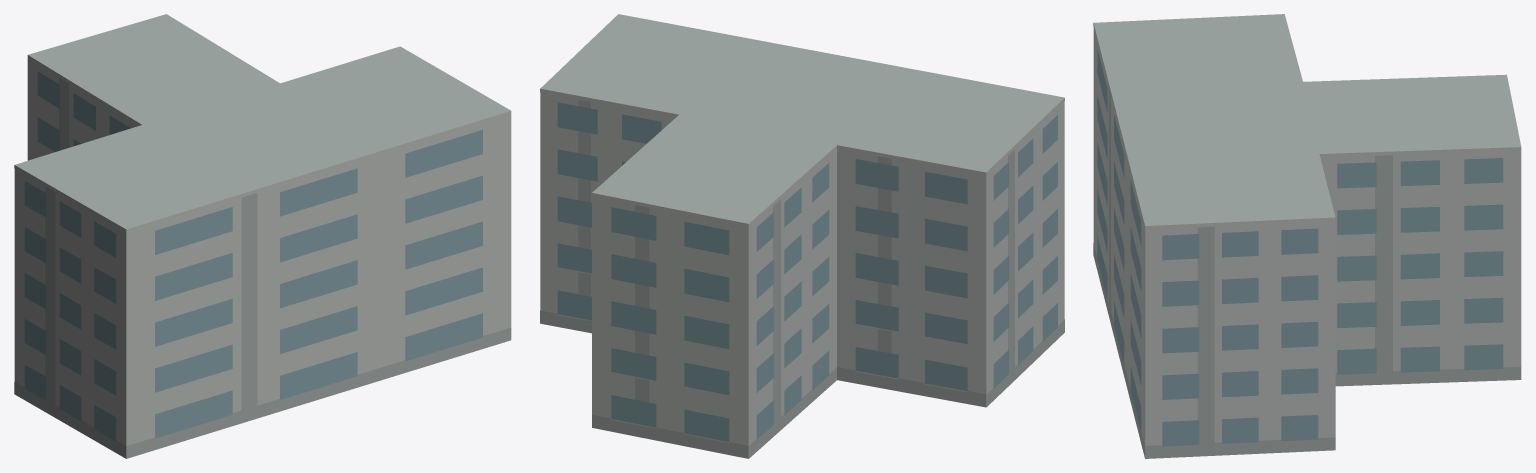
The model's file is residential-c31049ea-d808-4595-bd0d-76ddde4bd682.glb.
3 renders of one model, left to right at view 1: azimuth 30°, elevation 25°; view 2: azimuth 150°, elevation 25°; view 3: azimuth 270°, elevation 25°, orthographic. The views are drawn at different scales.
Visible parts, largest first — view 1: residential-c31049ea-d808-4595-bd0d-76ddde4bd682.tmp; view 2: residential-c31049ea-d808-4595-bd0d-76ddde4bd682.tmp; view 3: residential-c31049ea-d808-4595-bd0d-76ddde4bd682.tmp.
Part boxes in pixels (<box>): residential-c31049ea-d808-4595-bd0d-76ddde4bd682.tmp: <box>14,14,511,458</box>; residential-c31049ea-d808-4595-bd0d-76ddde4bd682.tmp: <box>540,14,1064,458</box>; residential-c31049ea-d808-4595-bd0d-76ddde4bd682.tmp: <box>1093,14,1521,458</box>.
Bounding box in the file's own units: 29.79 × 15.25 × 25.4.
